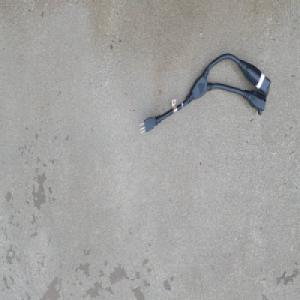Wire: (138, 51, 272, 135)
